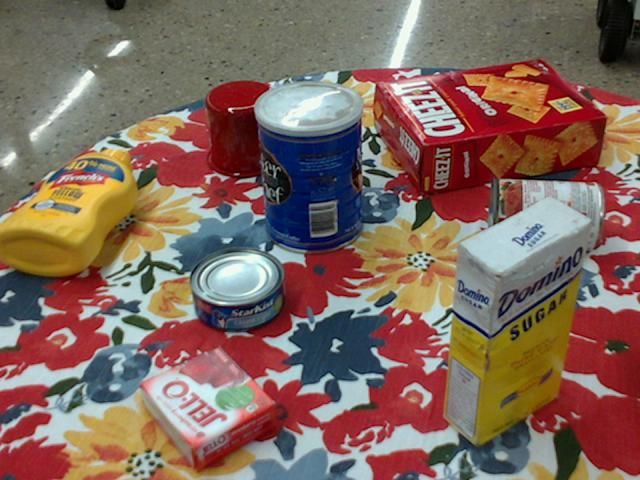cracker_box: (376, 61, 607, 195)
gelatin_box: (141, 348, 279, 475)
master_chef_can: (254, 79, 363, 254)
mug: (205, 80, 305, 178)
mustard_bottle: (0, 149, 137, 276)
sugar_box: (445, 194, 591, 448)
tomato_soup_can: (490, 178, 605, 248)
tuna_fish_can: (188, 248, 285, 333)
